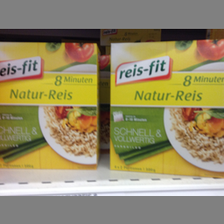rice: (108, 39, 224, 180), (1, 41, 100, 171)
